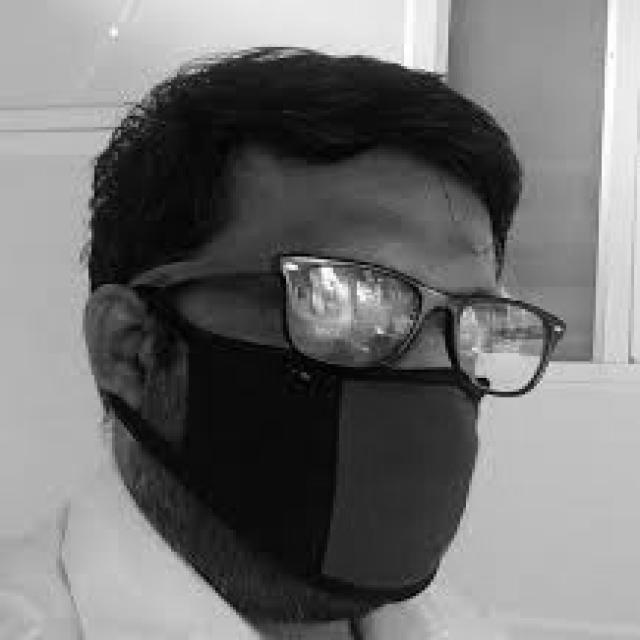fake: (179, 326, 489, 597)
real: (187, 149, 505, 602)
